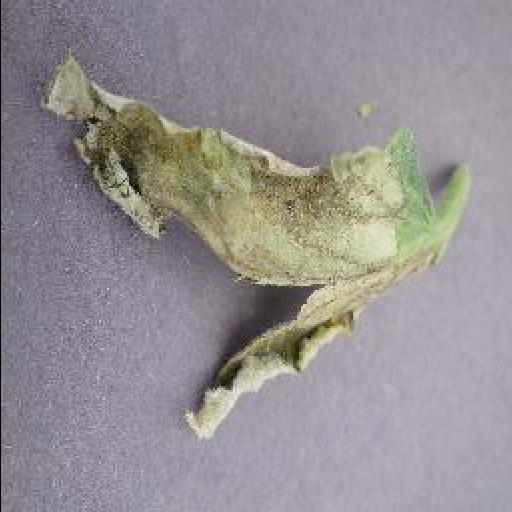disease_tomato: (32, 51, 440, 441)
